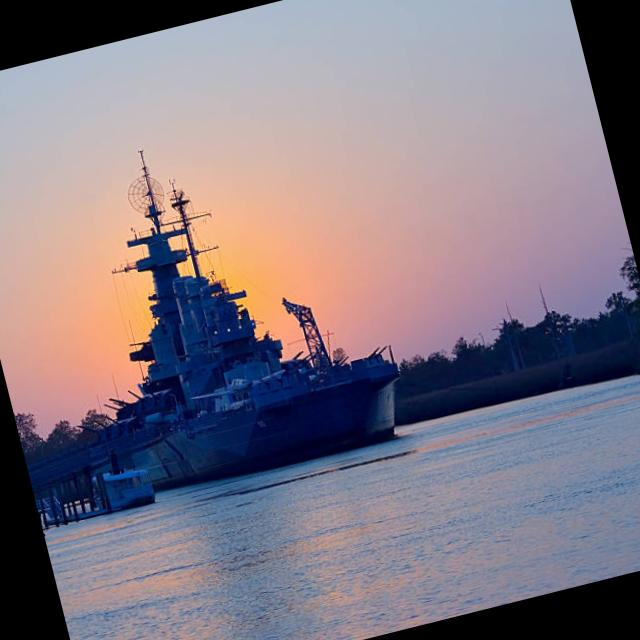Military: (25, 154, 400, 496)
